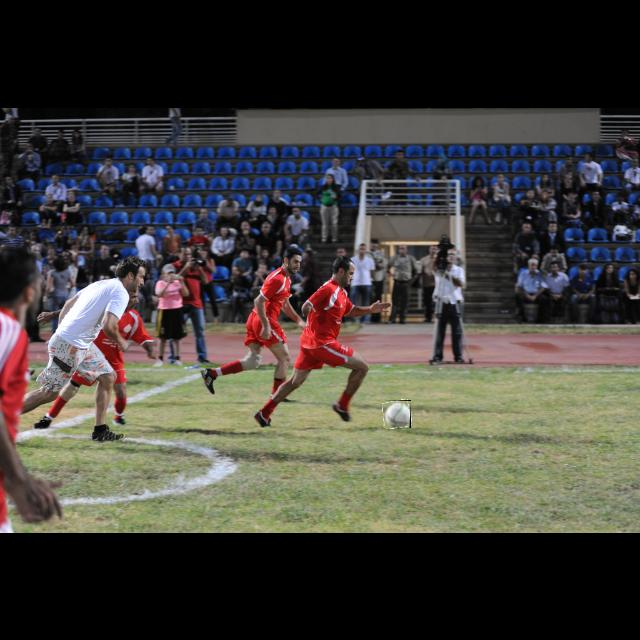Football: (383, 400, 411, 428)
